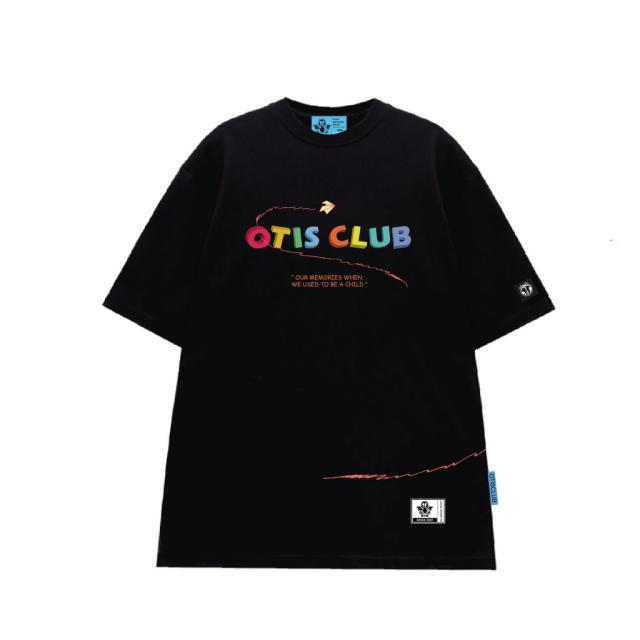Shirt: (99, 90, 562, 576)
